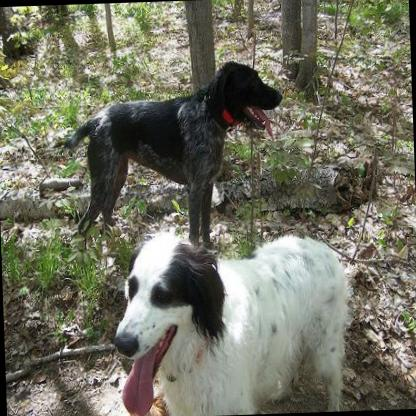English_setter: (110, 219, 355, 416), (50, 57, 288, 250)
